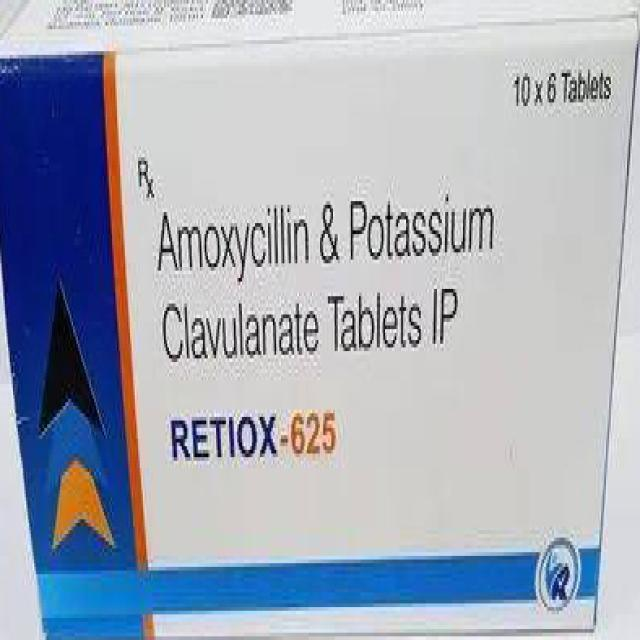drug-name: (169, 408, 341, 463)
